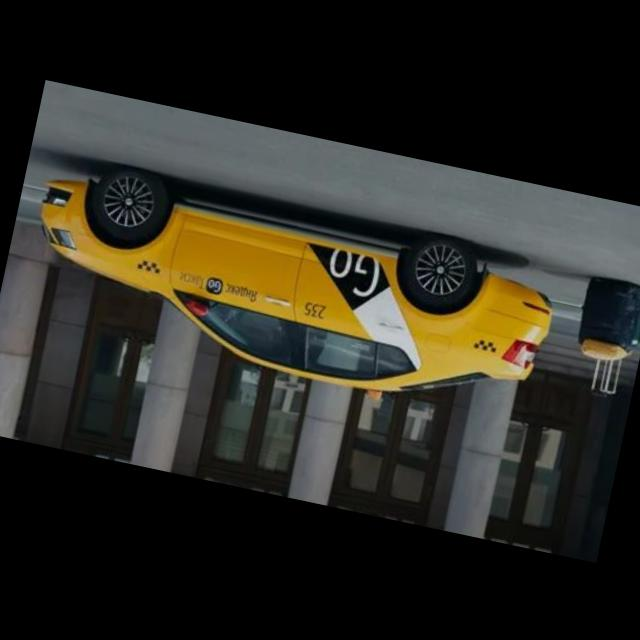taxi: (16, 150, 565, 430)
